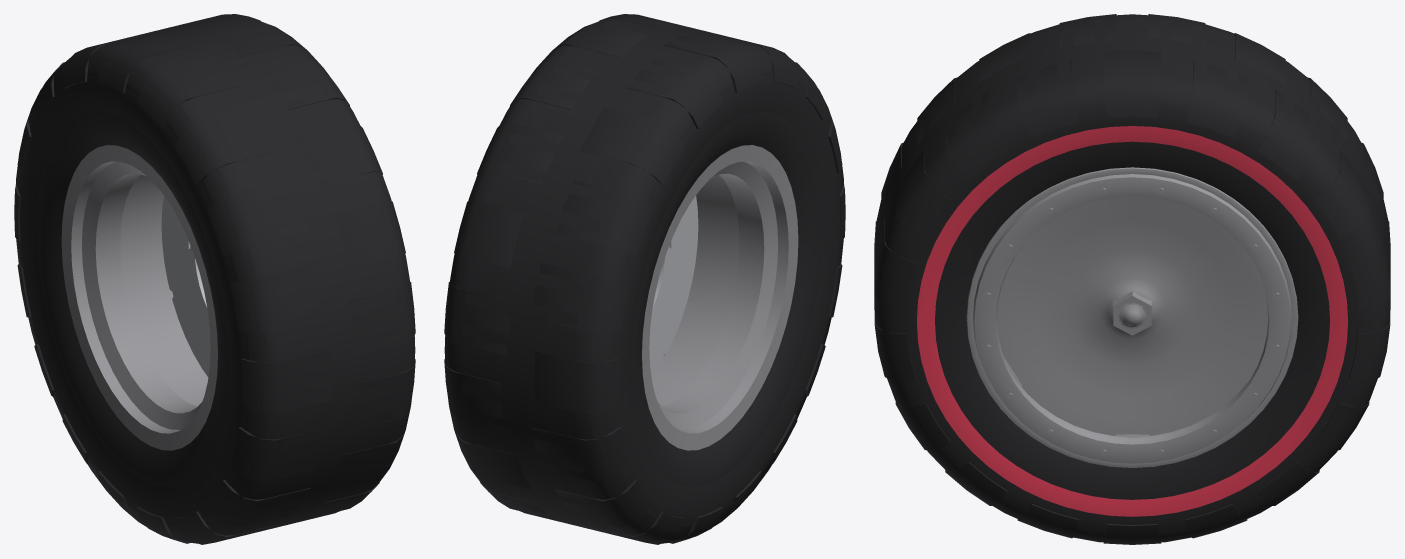
File: wheels.glb
3 renders of one model, left to right at view 1: azimuth 30°, elevation 25°; view 2: azimuth 150°, elevation 25°; view 3: azimuth 270°, elevation 25°, orthographic.
Visible parts, largest first — view 1: tyre_off, tyre_slick, tyre_road, rim_aero, disc_70, disc_60; view 2: tyre_off, tyre_slick, tyre_road, rim_aero, disc_70, disc_60; view 3: tyre_off, rim_covered, tyre_slick, band_slick, rim_aero, tyre_road.
Part boxes in pixels (x1,y1,x2,y2): tyre_off: (14,14,415,544); tyre_slick: (15,17,415,543); tyre_road: (19,15,412,541); rim_aero: (61,145,217,450); disc_70: (161,196,210,376); disc_60: (166,203,210,369); tyre_off: (444,14,845,544); tyre_slick: (444,18,844,543); tyre_road: (447,15,840,541); rim_aero: (642,145,798,450); disc_70: (650,196,698,376); disc_60: (649,202,691,369); tyre_off: (874,14,1390,544); rim_covered: (966,167,1298,467); tyre_slick: (874,14,1390,543); band_slick: (917,126,1347,516); rim_aero: (973,174,1291,463); tyre_road: (874,14,1390,541).
Size of the model in its own units: 0.778 by 2 by 2.
